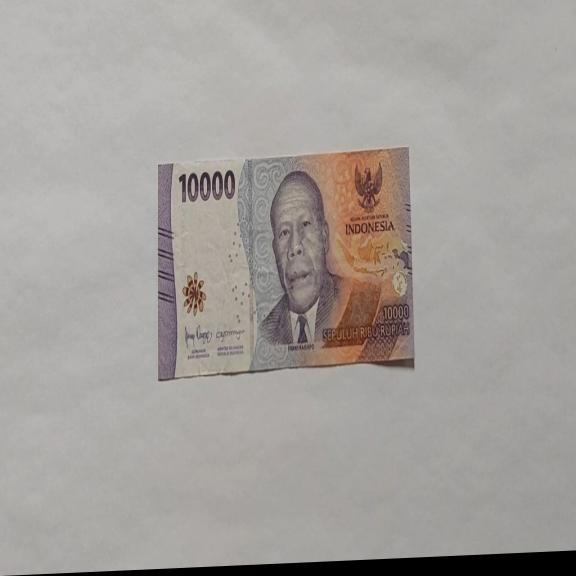Kertas: (157, 145, 415, 381), (178, 167, 235, 205)
